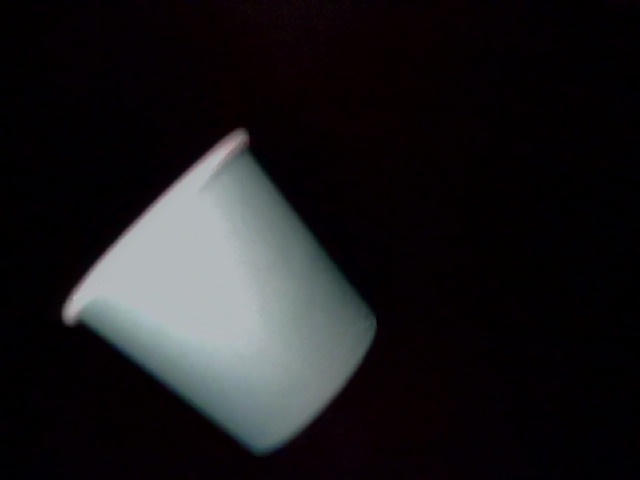CYLJ: (160, 248, 261, 351)
